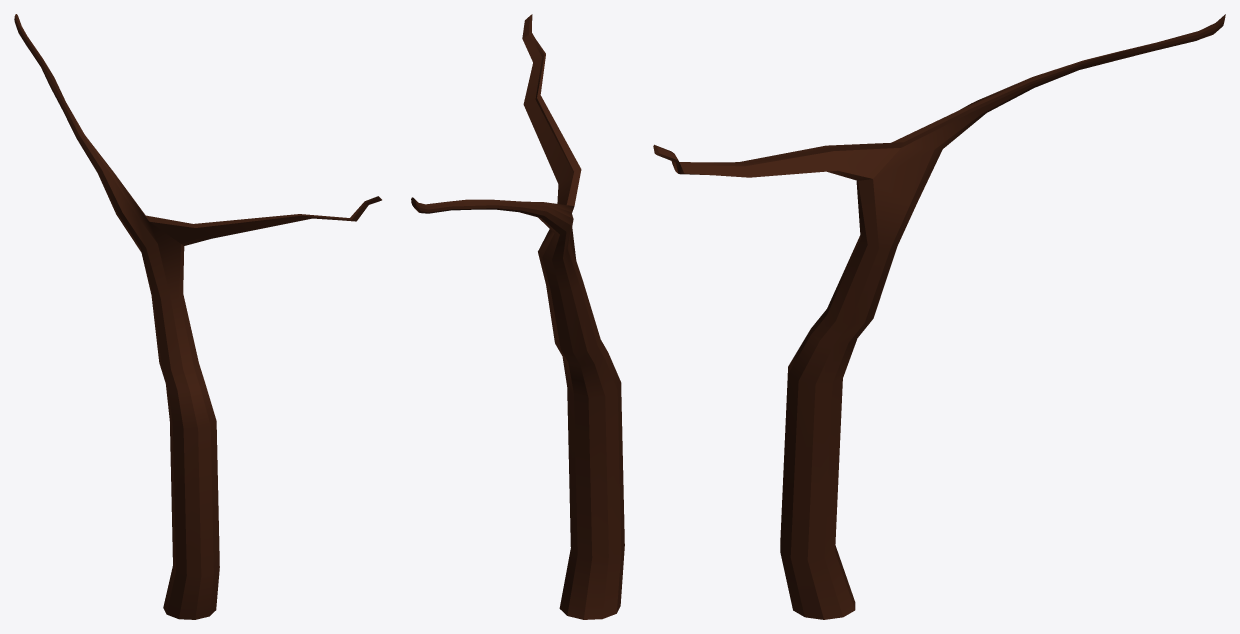
The model's file is tree2.fbx.
3 views of the same model, side by side, from view 1: azimuth 30°, elevation 25°; view 2: azimuth 150°, elevation 25°; view 3: azimuth 270°, elevation 25° (orthographic). The views are drawn at different scales.
Visible parts, largest first — view 1: pCylinder5; view 2: pCylinder5; view 3: pCylinder5.
Part boxes in pixels (<box>): pCylinder5: <box>14,14,381,619</box>; pCylinder5: <box>411,14,624,619</box>; pCylinder5: <box>653,14,1225,619</box>.
Bounding box in the file's own units: 18.28 × 54.6 × 48.33.
